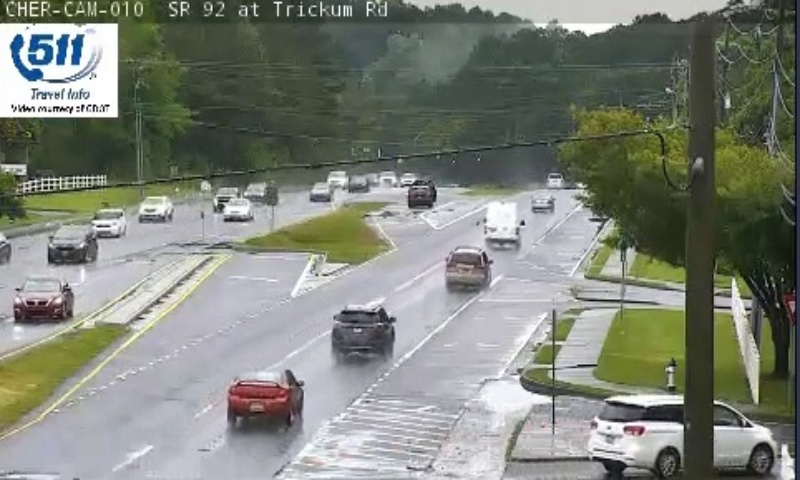car: (227, 371, 303, 416), (331, 306, 396, 353), (445, 249, 490, 285), (531, 193, 552, 211)
van: (484, 202, 521, 245)
